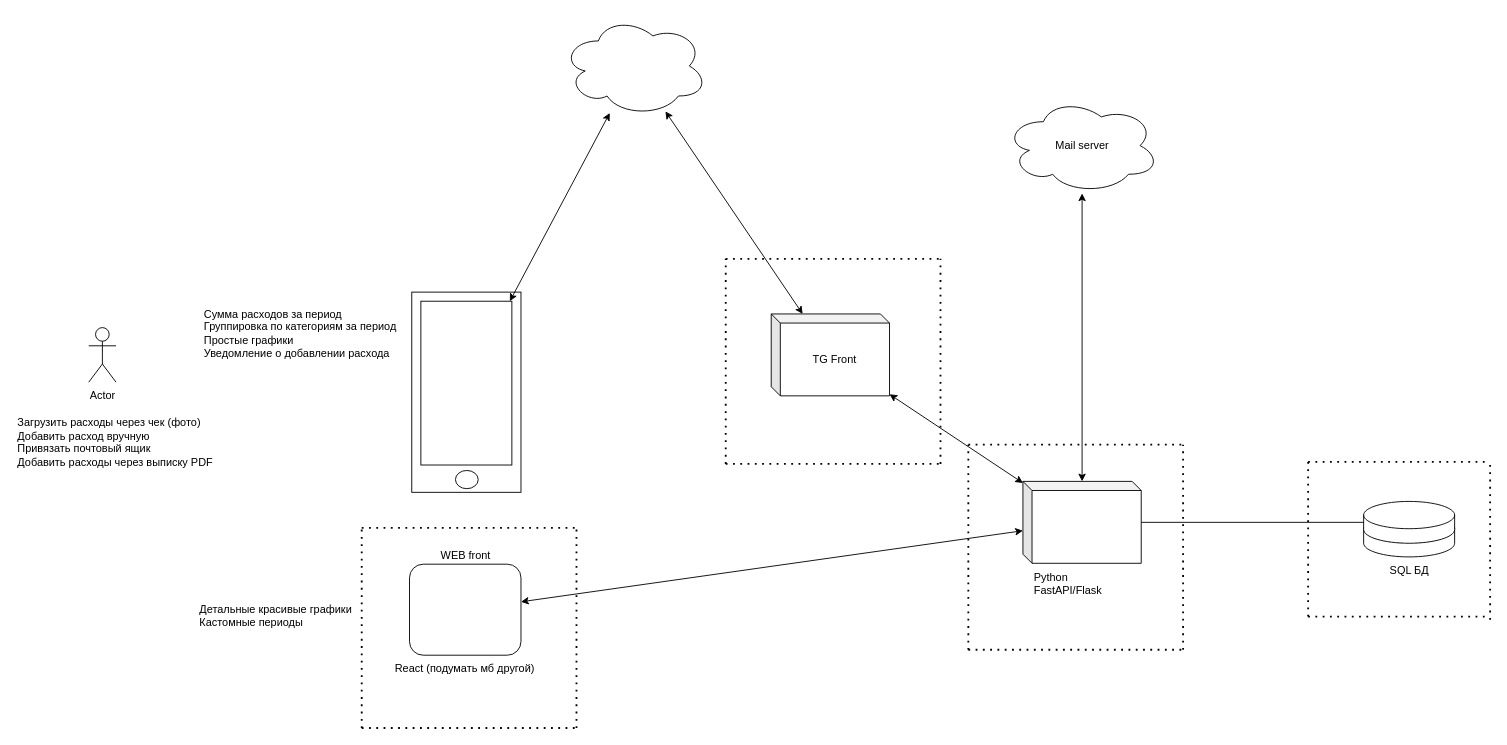
Some shapes in this 1507 by 745 pixel diagram are drawn without their labels. Here are the shapes that lost their labels. From the top down, the box of each, then its label:
(561, 15, 708, 116): TG servers
(1022, 480, 1141, 563): Backend
